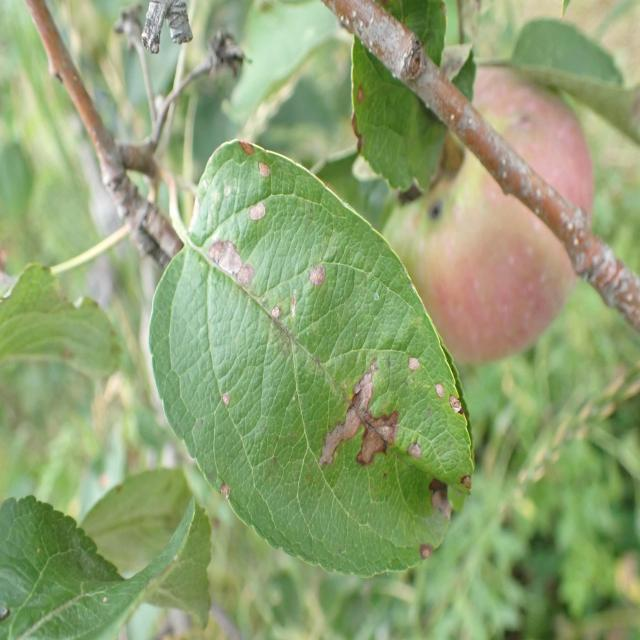frog-eye-leaf-spot: (148, 138, 474, 579), (350, 0, 476, 194)
